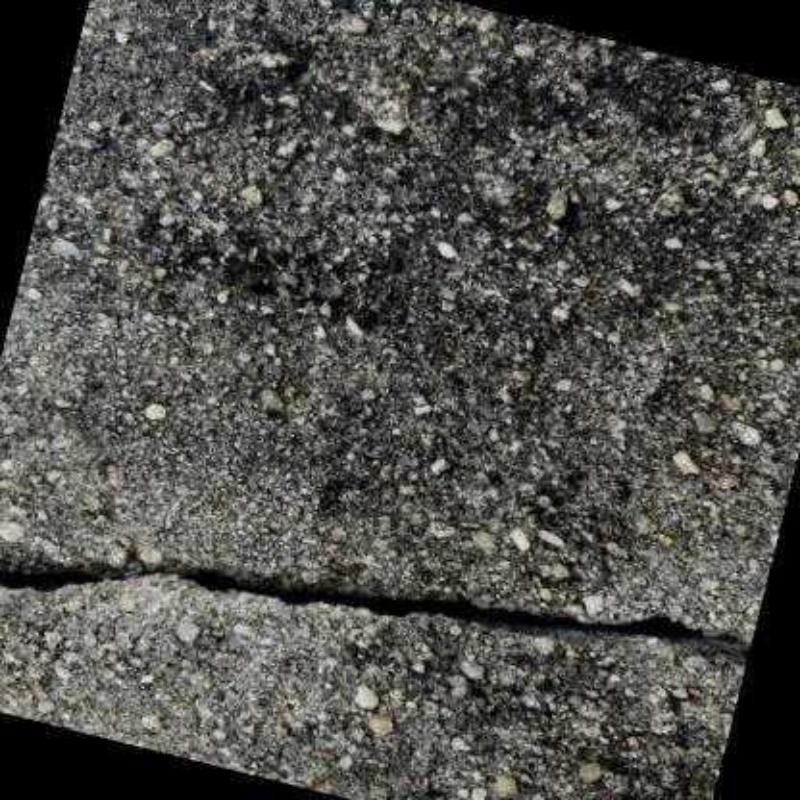pothole: (0, 567, 750, 666)
